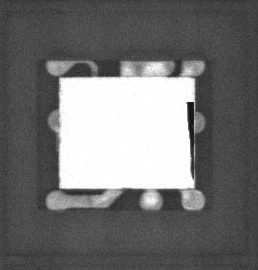DIE_BROKEN: (184, 100, 196, 182)
